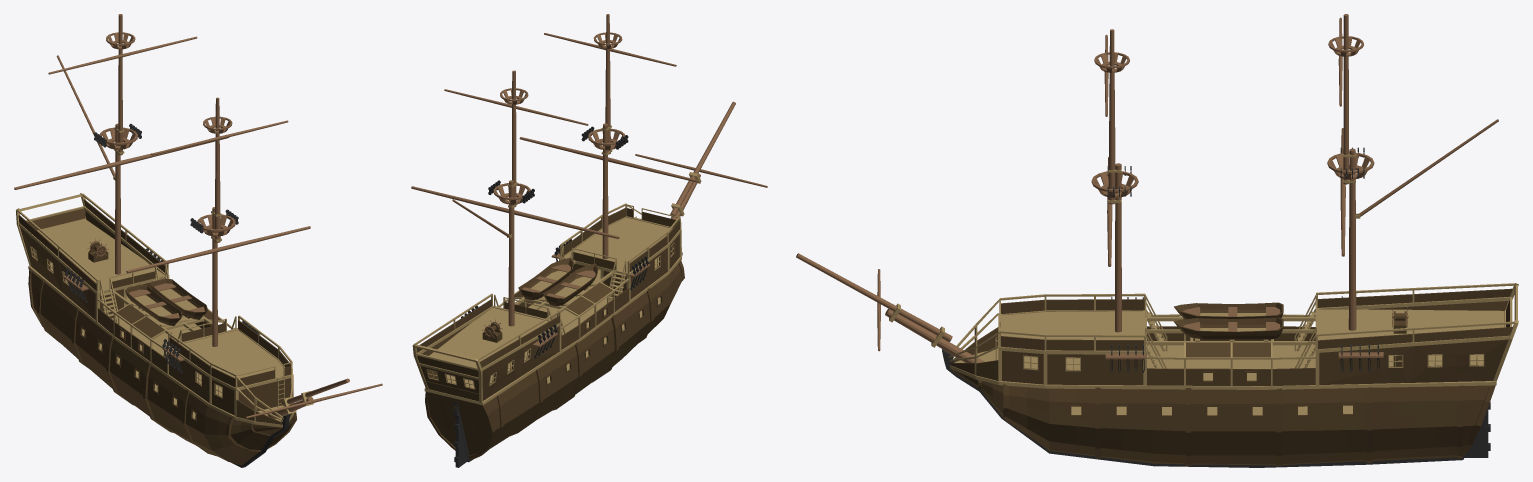
File: Ship base.fbx
3 views of the same model, side by side, from view 1: azimuth 30°, elevation 25°; view 2: azimuth 150°, elevation 25°; view 3: azimuth 270°, elevation 25° (orthographic). The views are drawn at different scales.
Parts seen in each view (by area): view 1: Ship.001, Ship.002, Ship, Ship.003; view 2: Ship.001, Ship.002, Ship, Ship.003; view 3: Ship.001, Ship.002, Ship, Ship.003.
Boxes of the visible parts, x1=… form: Ship.001: x1=18, y1=199, x2=296, y2=465; Ship.002: x1=16, y1=127, x2=313, y2=427; Ship: x1=14, y1=14, x2=382, y2=418; Ship.003: x1=65, y1=123, x2=289, y2=467; Ship.001: x1=416, y1=208, x2=684, y2=460; Ship.002: x1=412, y1=125, x2=701, y2=405; Ship: x1=411, y1=14, x2=767, y2=347; Ship.003: x1=453, y1=126, x2=648, y2=467; Ship.001: x1=950, y1=288, x2=1512, y2=465; Ship.002: x1=889, y1=153, x2=1518, y2=415; Ship: x1=796, y1=14, x2=1498, y2=362; Ship.003: x1=942, y1=147, x2=1490, y2=467.
Bounding box in the file's own units: 15.82 × 26.46 × 38.36.
